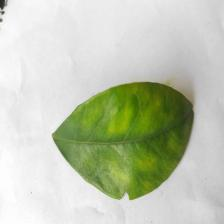greening: (77, 86, 180, 180)
